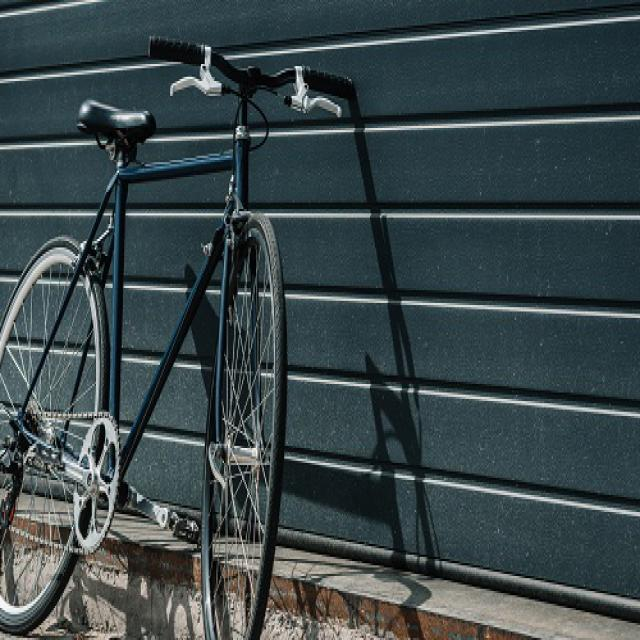bicycle: (0, 38, 356, 638)
